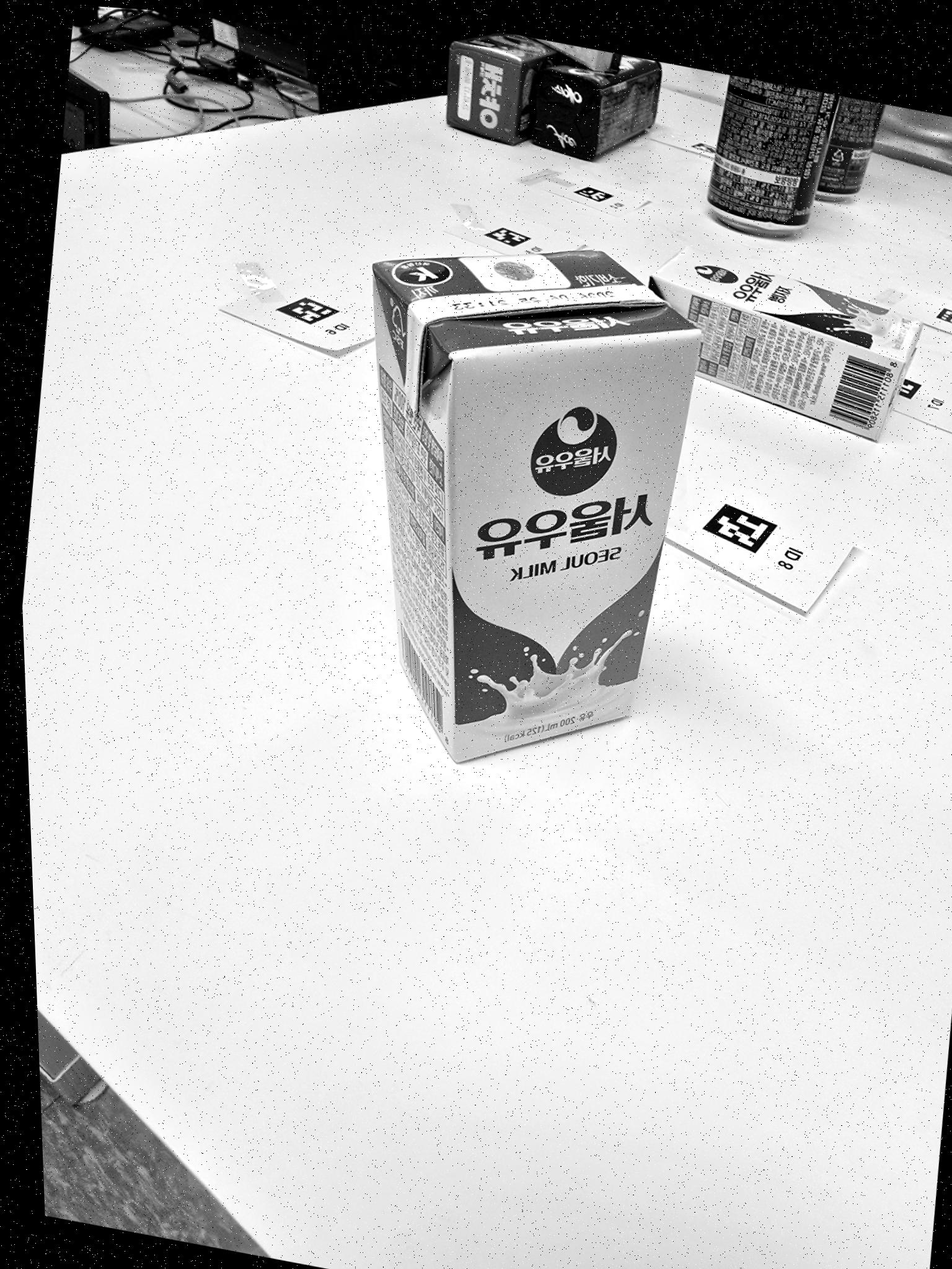milk_blue: (646, 244, 924, 443)
milk_green: (370, 246, 698, 766)
